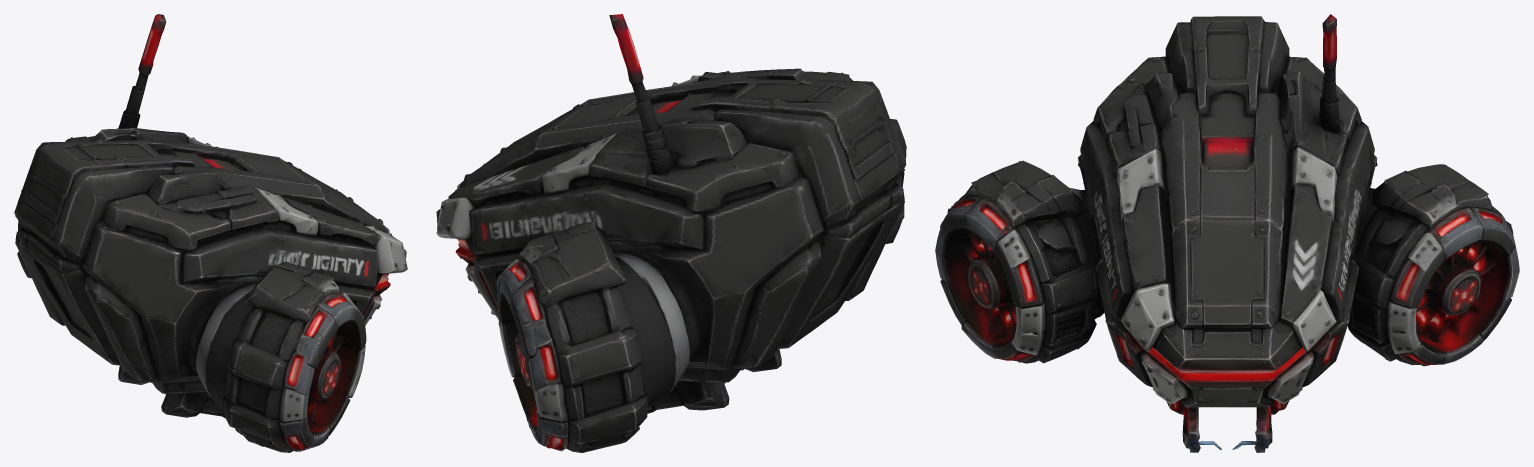
File: SecurityDrone.glb
3 renders of one model, left to right at view 1: azimuth 30°, elevation 25°; view 2: azimuth 150°, elevation 25°; view 3: azimuth 270°, elevation 25°, orthographic. The views are drawn at different scales.
Parts seen in each view (by area): view 1: Mesh::generatedModels/FRYLZtSlbYZaH9O7fKUB.gltf; view 2: Mesh::generatedModels/FRYLZtSlbYZaH9O7fKUB.gltf; view 3: Mesh::generatedModels/FRYLZtSlbYZaH9O7fKUB.gltf.
Part boxes in pixels (bbox=[...]): Mesh::generatedModels/FRYLZtSlbYZaH9O7fKUB.gltf: bbox=[14, 14, 407, 452]; Mesh::generatedModels/FRYLZtSlbYZaH9O7fKUB.gltf: bbox=[436, 14, 906, 452]; Mesh::generatedModels/FRYLZtSlbYZaH9O7fKUB.gltf: bbox=[935, 14, 1519, 452].
Size of the model in its own units: 0.748 by 0.7801 by 1.
1 material, 1 textured.
